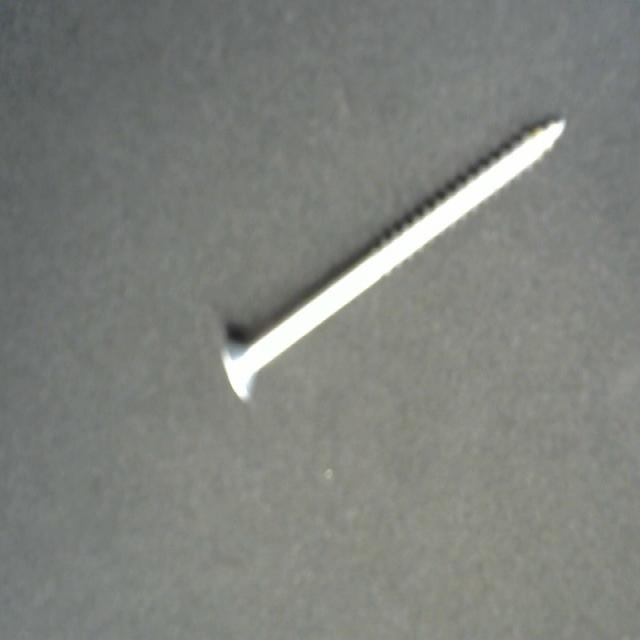WoodScrew: (217, 104, 567, 423)
